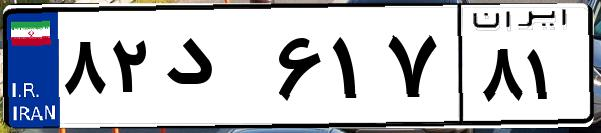1: (330, 28, 385, 110), (525, 38, 570, 115)
2: (110, 28, 158, 98)
6: (270, 28, 330, 110)
7: (385, 28, 445, 110)
8: (57, 26, 110, 100), (475, 38, 525, 113)
د: (158, 20, 270, 120)
